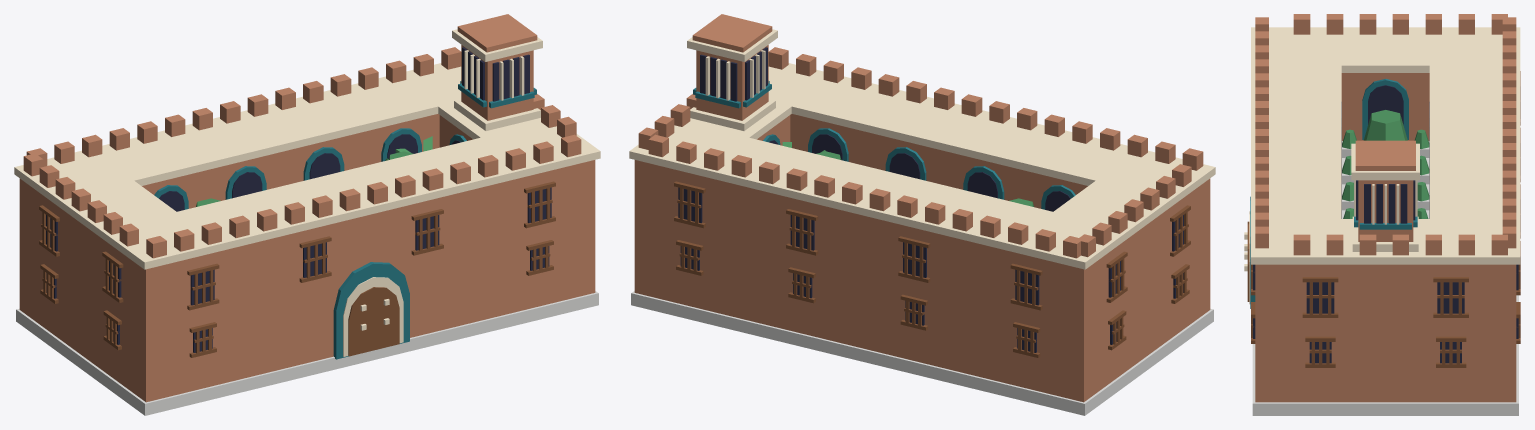
The model's file is house-2x1-2f-third-riad-a.glb.
The picture shows the model from 3 angles, left to right: view 1: azimuth 30°, elevation 25°; view 2: azimuth 150°, elevation 25°; view 3: azimuth 270°, elevation 25°; orthographic projection. The views are drawn at different scales.
Parts seen in each view (by area): view 1: house-2x1-2f-third-riad-a; view 2: house-2x1-2f-third-riad-a; view 3: house-2x1-2f-third-riad-a.
Part boxes in pixels (bbox=[...]): house-2x1-2f-third-riad-a: bbox=[14, 14, 600, 415]; house-2x1-2f-third-riad-a: bbox=[629, 14, 1215, 415]; house-2x1-2f-third-riad-a: bbox=[1244, 14, 1520, 415].
Size of the model in its own units: 1.98 by 0.98 by 1.01.
1 material, 1 textured.
